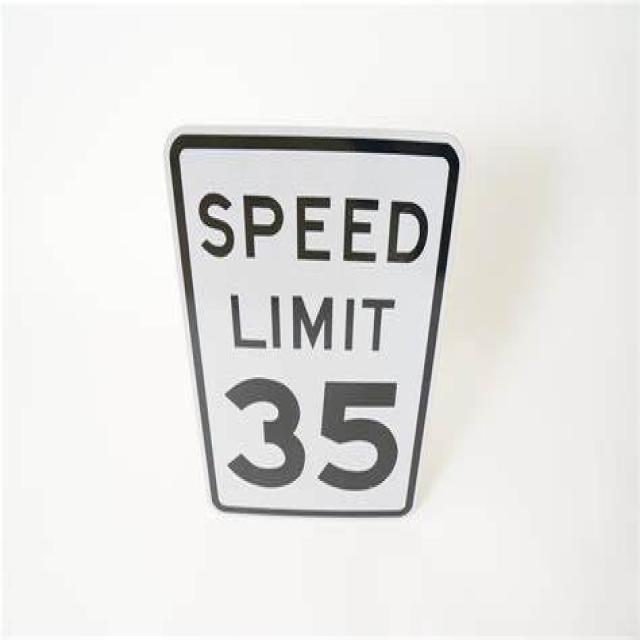speedLimit35: (163, 121, 463, 527)
